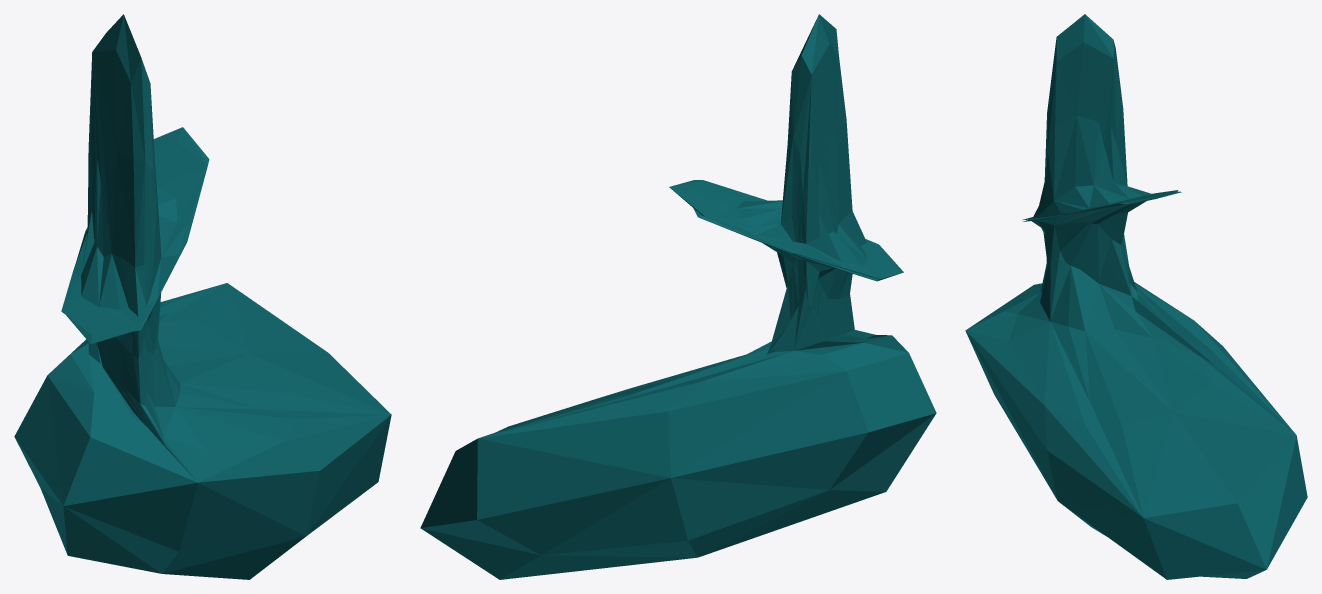
3 views of the same model, side by side, from view 1: azimuth 30°, elevation 25°; view 2: azimuth 150°, elevation 25°; view 3: azimuth 270°, elevation 25° (orthographic). The views are drawn at different scales.
Parts seen in each view (by area): view 1: 247_Cube.1013; view 2: 247_Cube.1013; view 3: 247_Cube.1013.
Part boxes in pixels (x1,y1,x2,y2): 247_Cube.1013: (14,14,391,579); 247_Cube.1013: (420,14,936,579); 247_Cube.1013: (965,14,1307,579).
Size of the model in its own units: 10.01 by 13.94 by 9.18.
